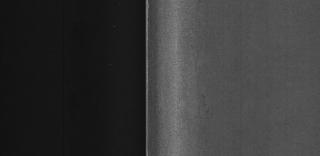silk spot: (156, 10, 212, 146)
